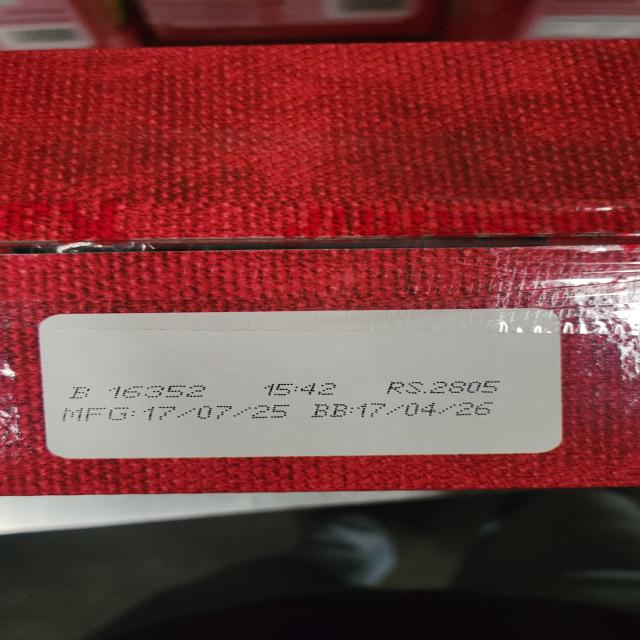BB: (316, 401, 499, 418)
Batch: (68, 385, 210, 399)
MFG: (64, 404, 293, 422)
RS: (386, 380, 506, 394)
TimeStamp: (263, 382, 341, 396)
